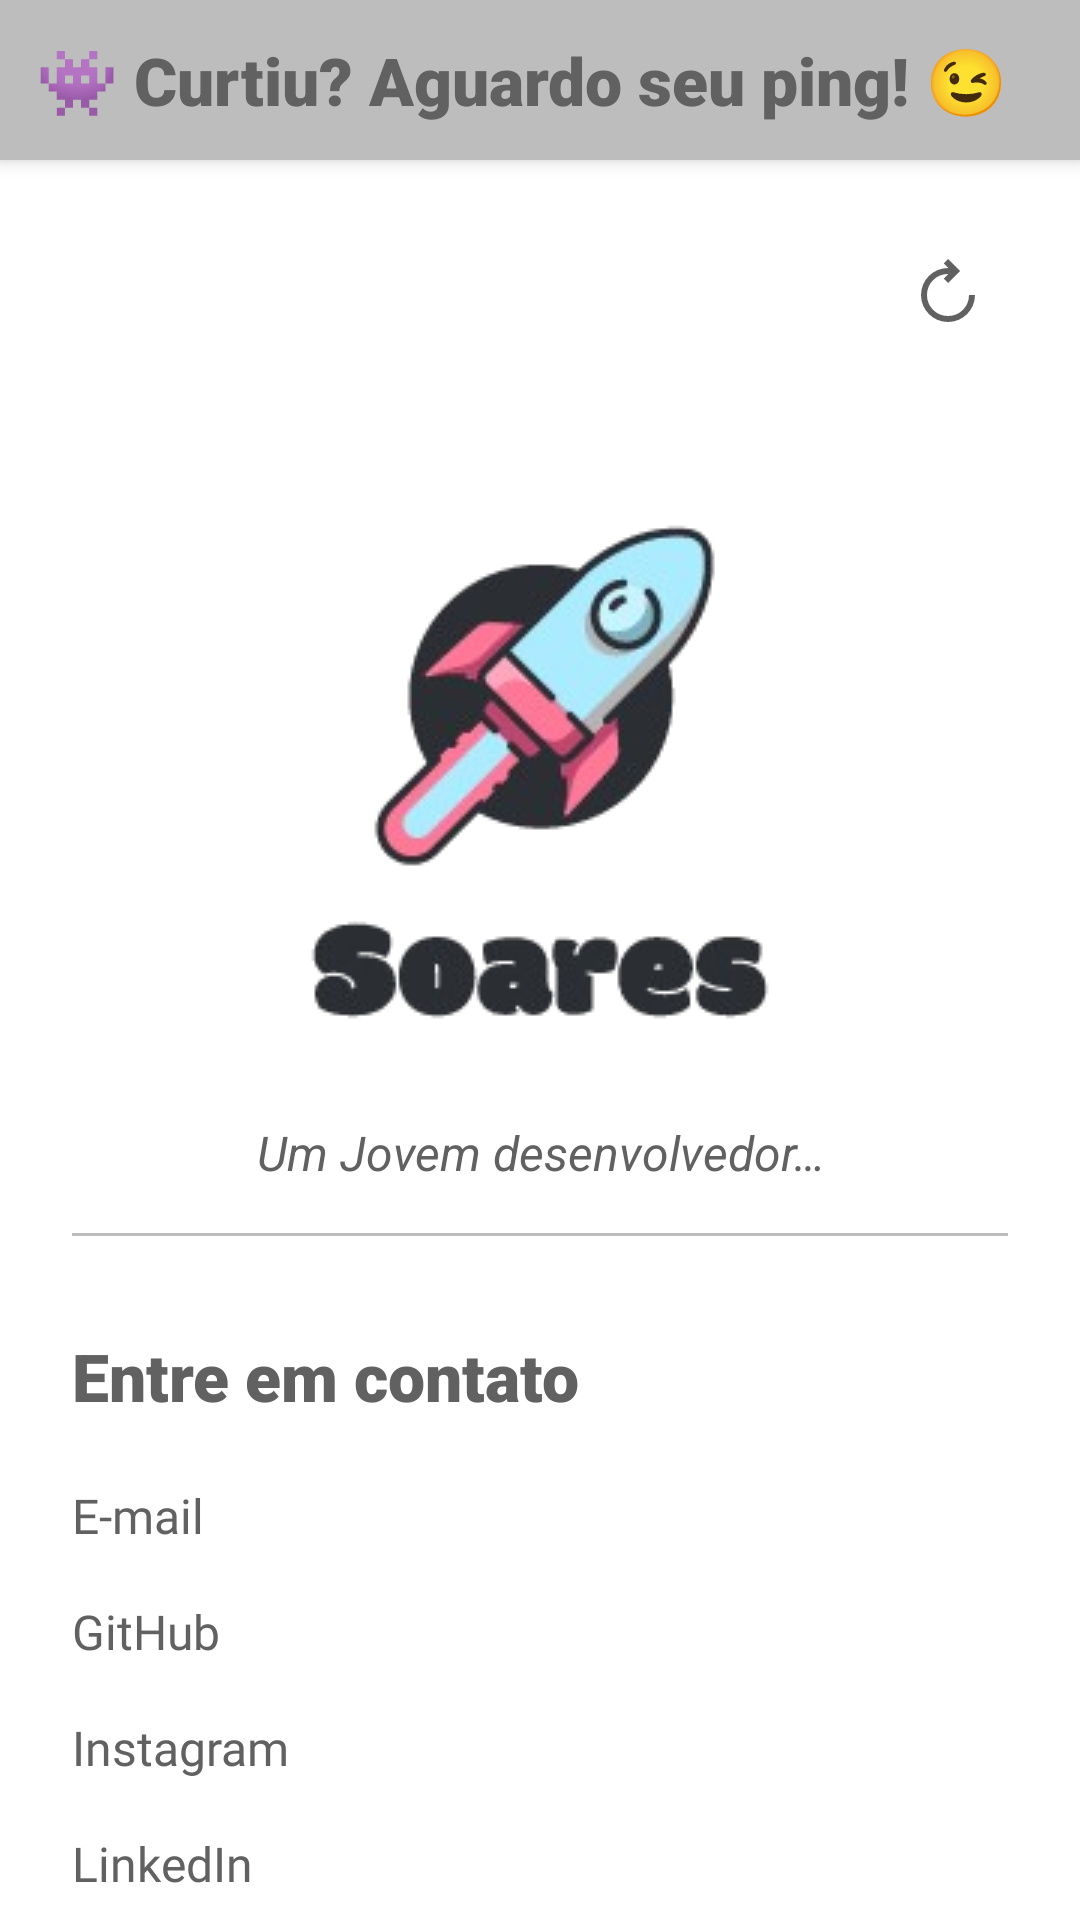

Icon click points for this 1080px x 1920px phone screenshot, format (x,y):
Rever tela inicial: (948,290)
